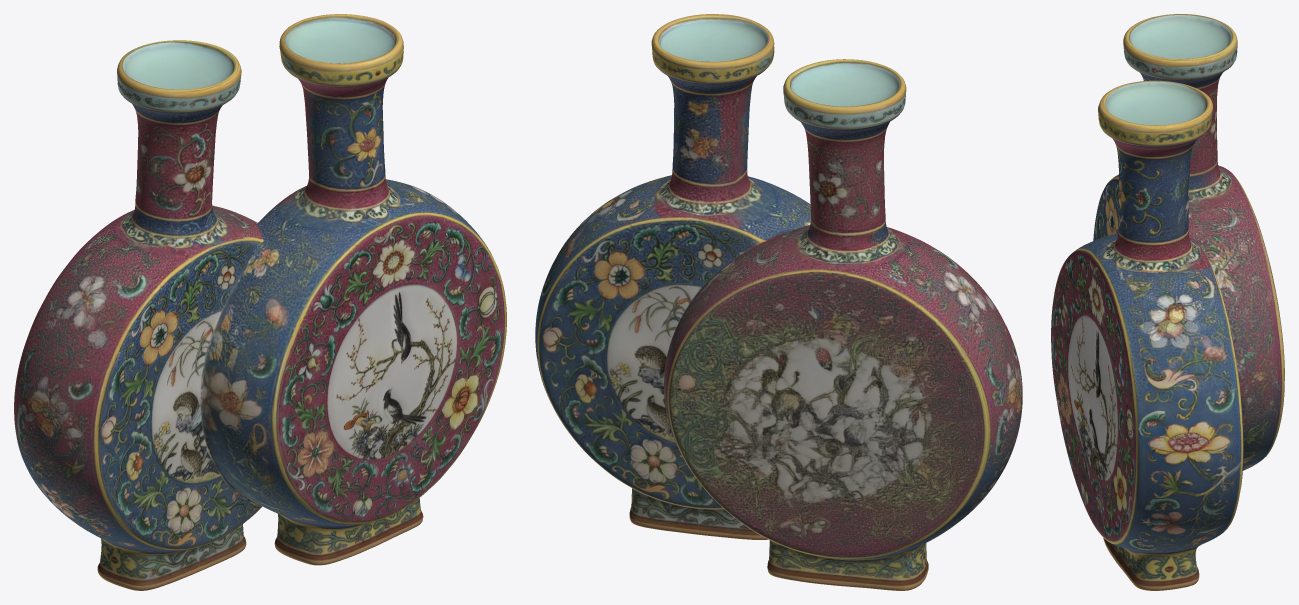
The model's file is 洋彩開光花鳥紋雙連瓶.glb.
The picture shows the model from 3 angles, left to right: view 1: azimuth 30°, elevation 25°; view 2: azimuth 150°, elevation 25°; view 3: azimuth 270°, elevation 25°; orthographic projection. The views are drawn at different scales.
Visible parts, largest first — view 1: tripo_node_955fc4e9; view 2: tripo_node_955fc4e9; view 3: tripo_node_955fc4e9.
Part boxes in pixels (x1,y1,x2,y2): tripo_node_955fc4e9: (14,14,506,590); tripo_node_955fc4e9: (535,14,1022,590); tripo_node_955fc4e9: (1051,14,1284,590).
Size of the model in its own units: 96.96 by 98.11 by 45.74.
1 material, 1 textured.
